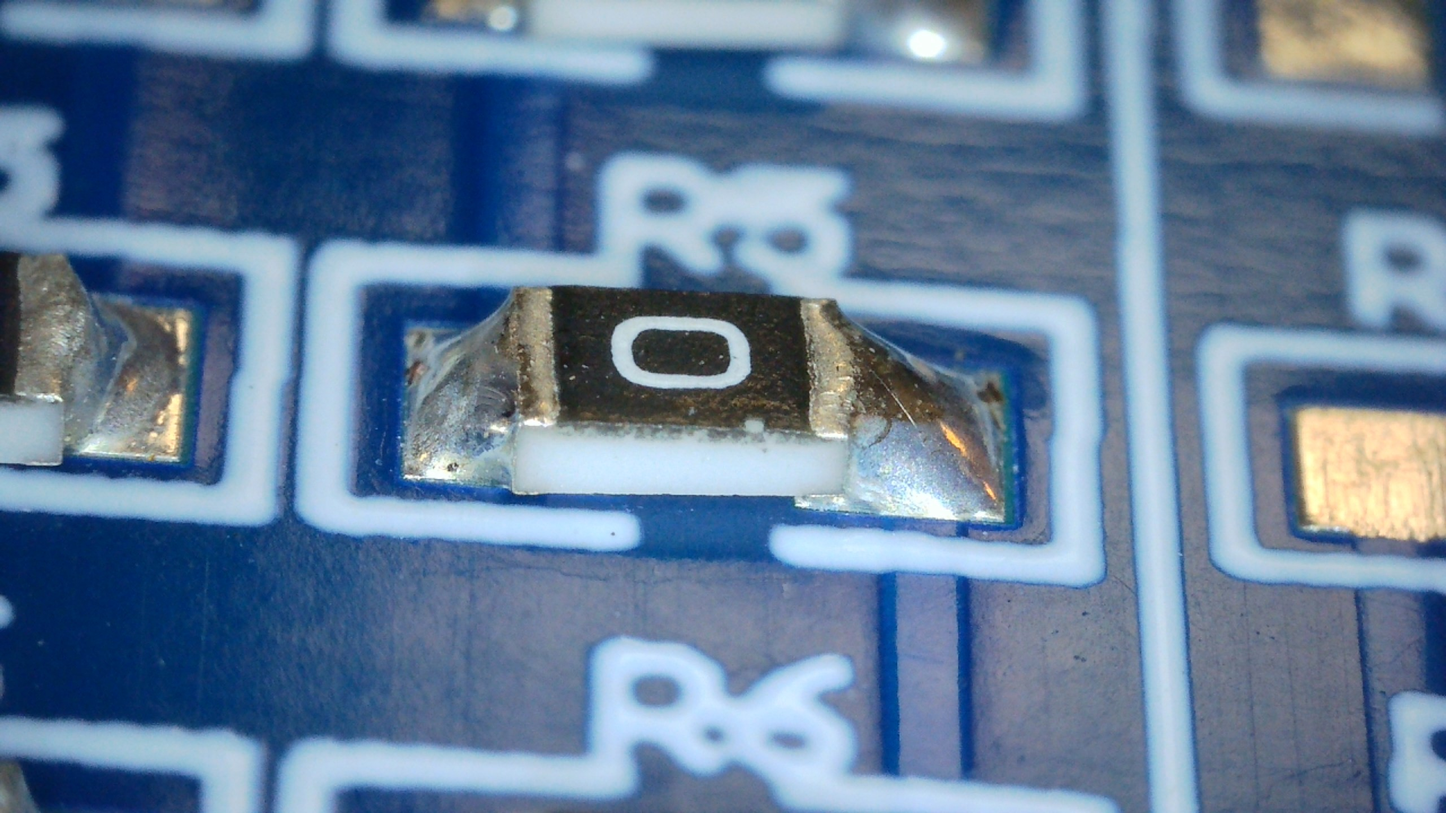NG: (805, 297, 997, 519)
OK: (407, 286, 557, 482)
